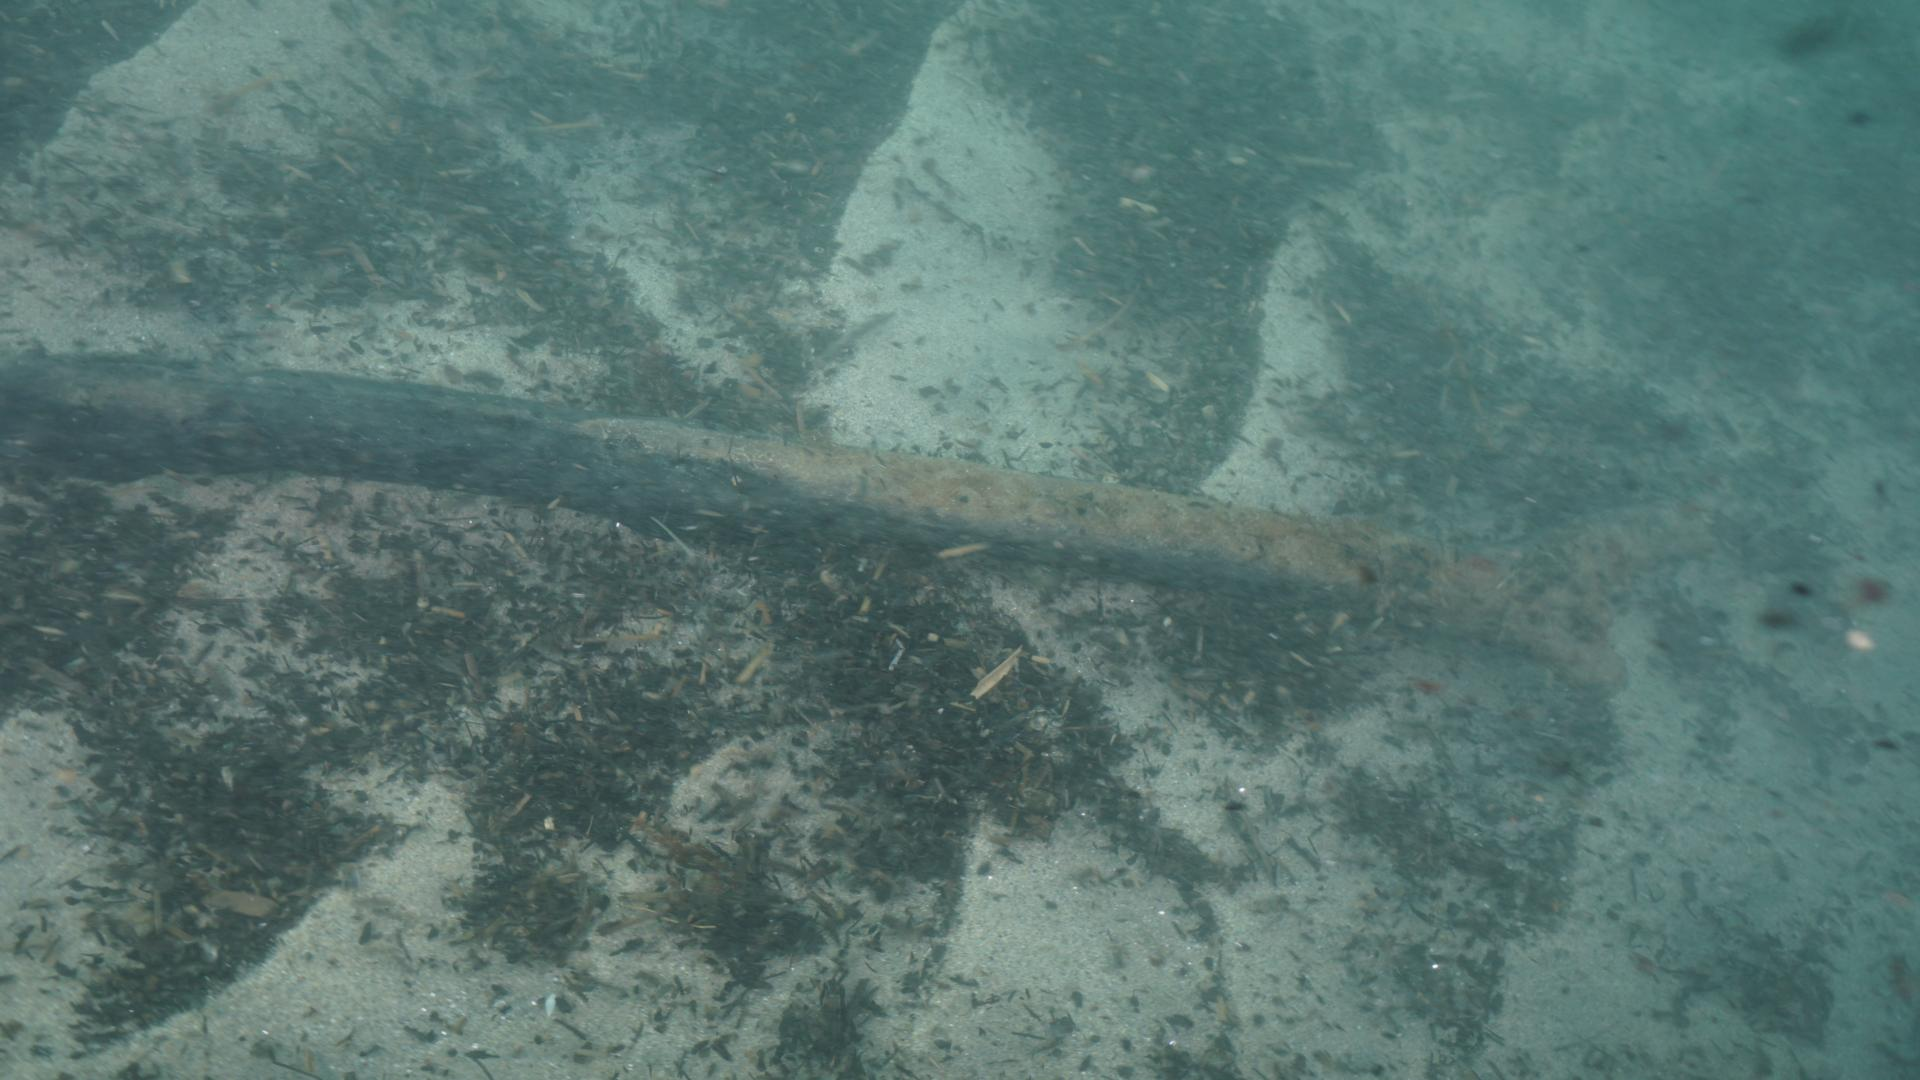wood: (0, 349, 1755, 695)
